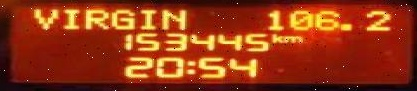-: (335, 20, 353, 33)
0: (155, 55, 183, 78), (288, 7, 311, 30)
1: (263, 8, 284, 30), (117, 32, 131, 52)
2: (362, 9, 395, 33), (121, 54, 152, 78)
3: (162, 32, 186, 52)
4: (226, 56, 259, 77), (188, 32, 212, 51), (216, 32, 240, 51)
5: (195, 55, 224, 78), (243, 32, 266, 52), (134, 32, 157, 51)
6: (315, 8, 337, 31)
X: (160, 6, 190, 30), (28, 5, 56, 30), (82, 6, 105, 30), (112, 7, 133, 30), (61, 6, 79, 31), (140, 7, 152, 31), (184, 58, 195, 75), (282, 35, 304, 42), (270, 31, 282, 42)
